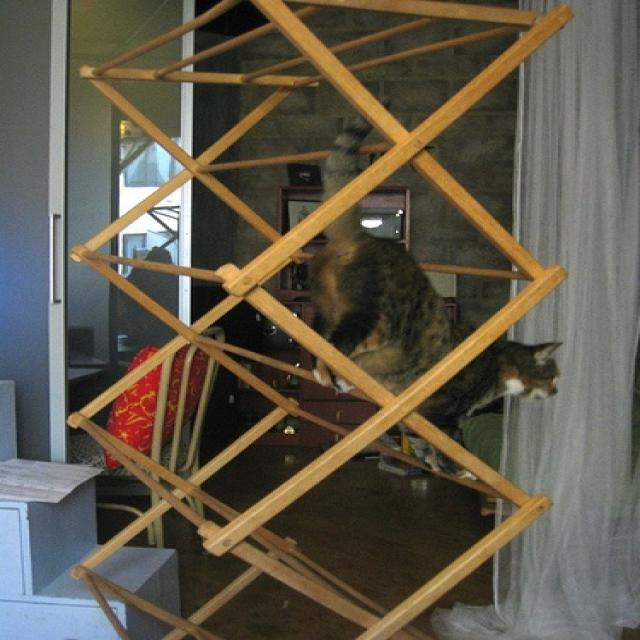cat: (295, 102, 579, 461)
chair: (72, 318, 235, 552)
